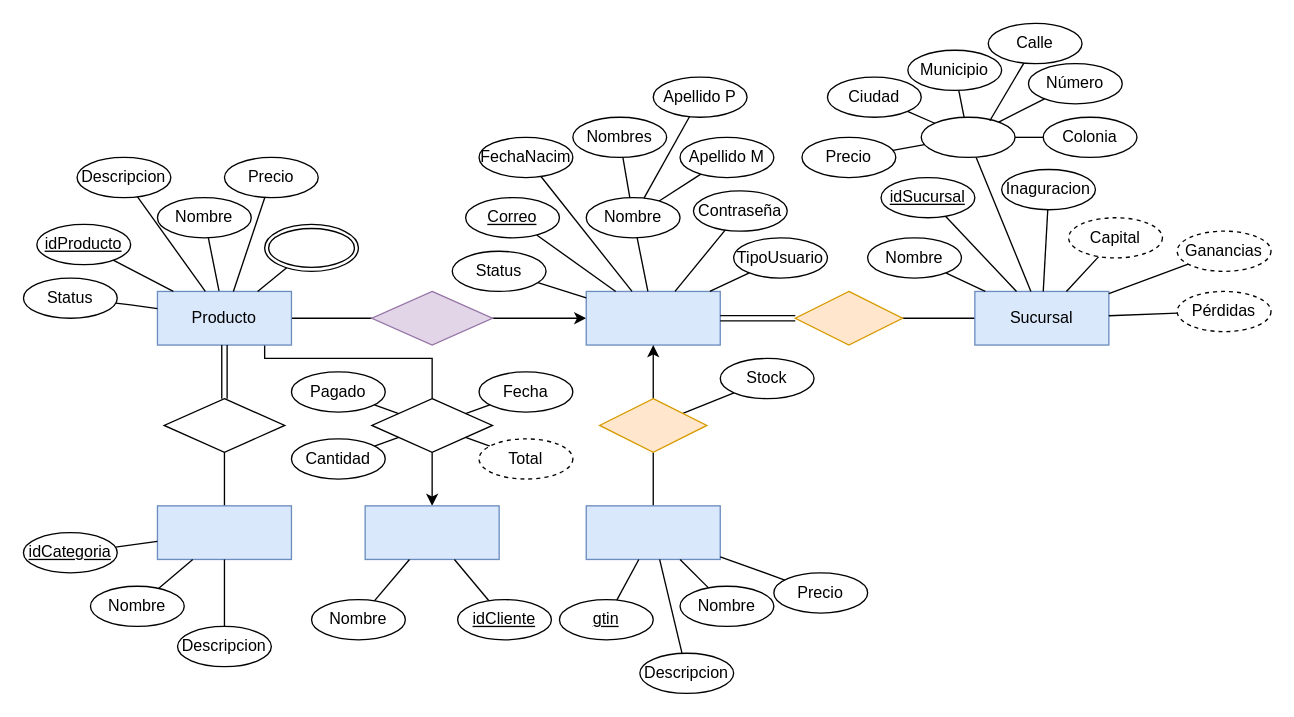
This 1294x717 diagram has some shape labels left out. The centre of each missing label's shape, as x and y in pixels:
"Adquirir" goes at point 652,424.
"Categoría" goes at point 223,532.
"Cliente" goes at point 431,532.
"Comprar" goes at point 431,424.
"Dirección" goes at point 967,136.
"Insumo" goes at point 652,532.
"Pertenecer" goes at point 224,424.
"Registrar" goes at point 848,317.
"Tamaño" goes at point 310,247.
"Usuario" goes at point 652,317.
"Vender" goes at point 431,317.
